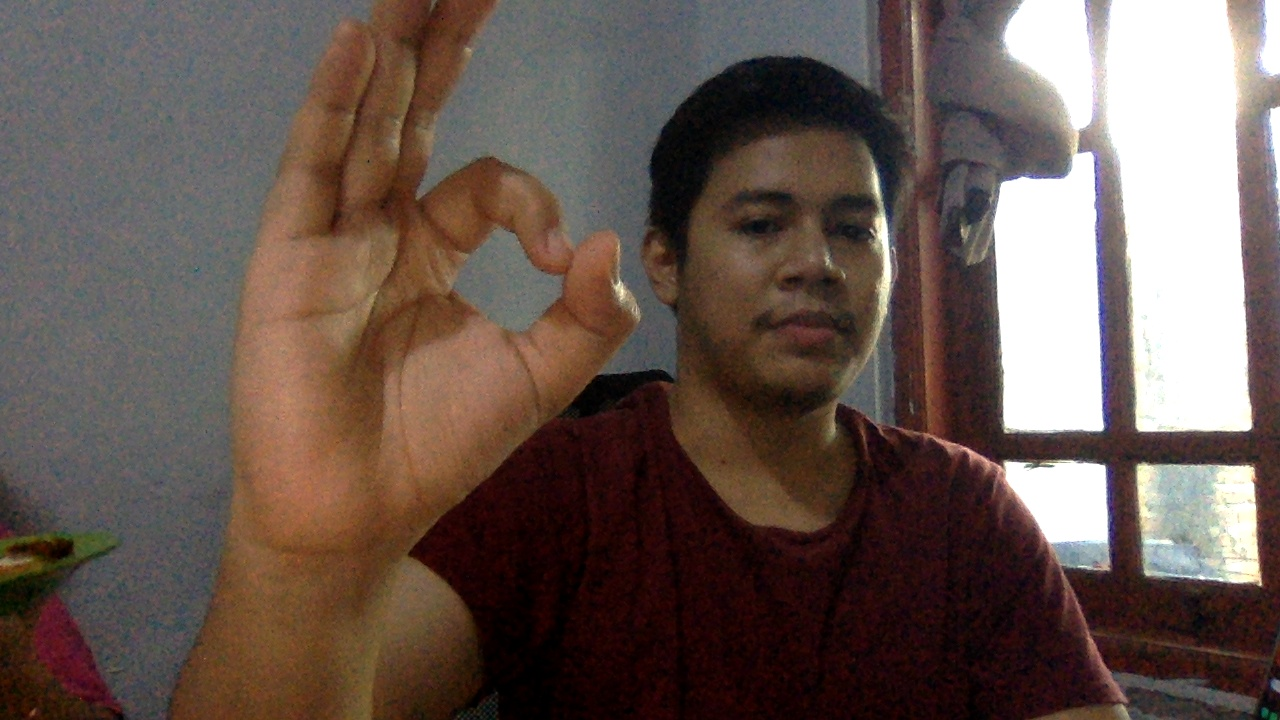thankyou: (204, 1, 684, 578)
